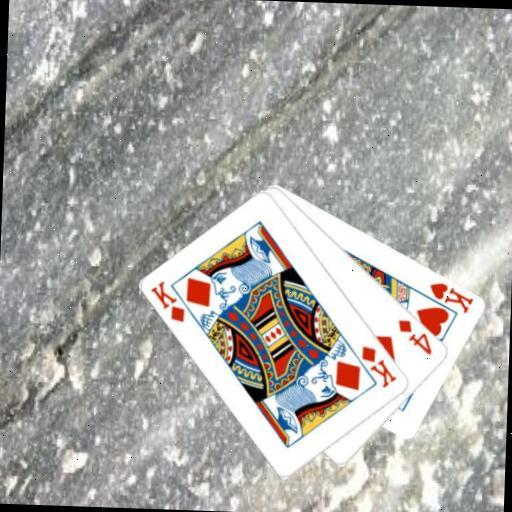4D: (394, 316, 435, 356)
KD: (357, 342, 400, 390), (146, 277, 188, 324)
KH: (426, 279, 476, 316)
